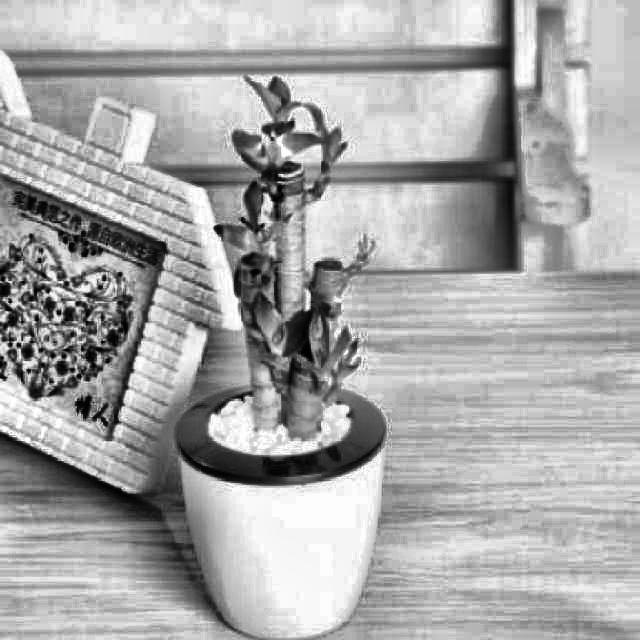plants: (176, 111, 384, 634)
